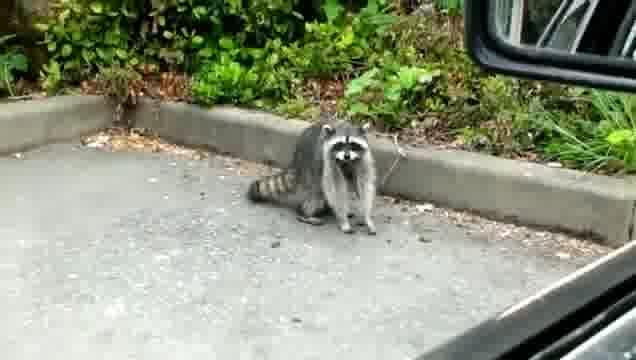raccoon: (245, 118, 380, 235)
